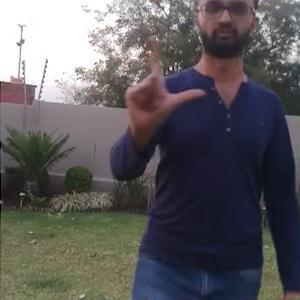land_hand: (118, 39, 206, 121)
